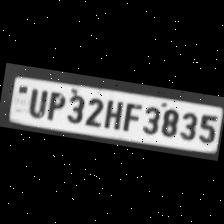2: (82, 94, 106, 128)
3: (62, 91, 86, 125), (138, 102, 162, 136), (176, 108, 200, 142)
5: (194, 111, 220, 145)
8: (156, 105, 182, 139)
F: (120, 99, 141, 133)
H: (102, 96, 124, 130)
P: (42, 89, 66, 123)
U: (24, 85, 48, 119)
